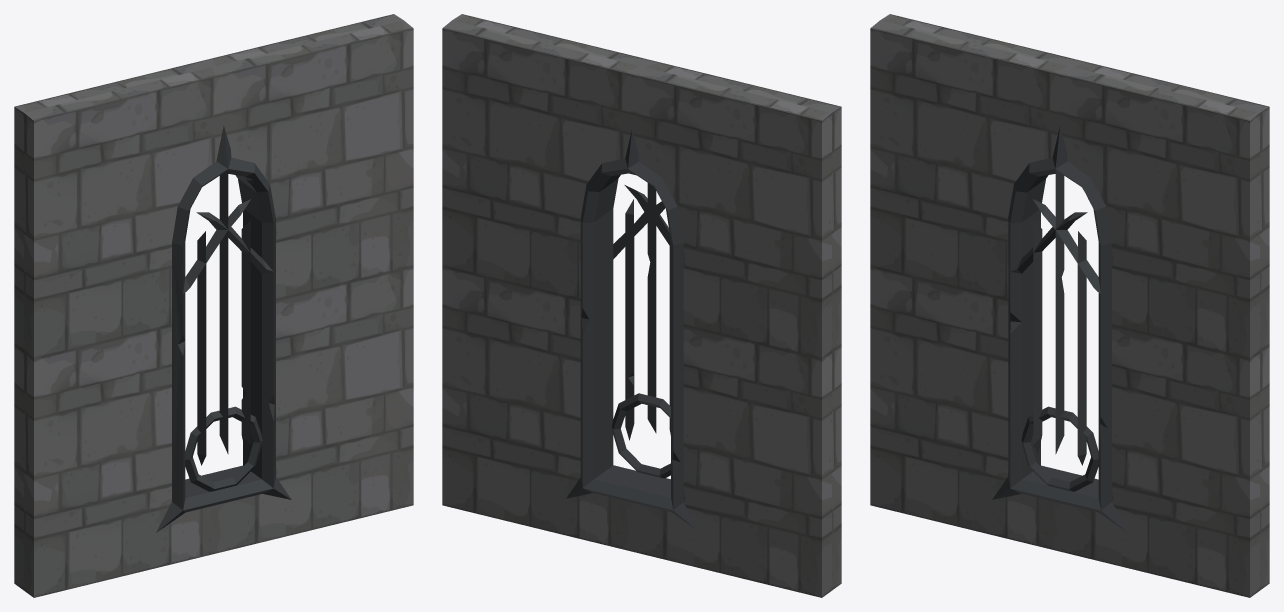
Rendered from wall_l_window.gltf.
The picture shows the model from 3 angles, left to right: view 1: azimuth 30°, elevation 25°; view 2: azimuth 150°, elevation 25°; view 3: azimuth 330°, elevation 25°; orthographic projection.
Visible parts, largest first — view 1: wall_l_window; view 2: wall_l_window; view 3: wall_l_window.
Part boxes in pixels (<box>): wall_l_window: <box>14,14,413,597</box>; wall_l_window: <box>442,14,841,597</box>; wall_l_window: <box>870,14,1269,597</box>.
Bounding box in the file's own units: 5 × 6.01 × 0.6491.
Materials: 2 (2 with a texture image).
